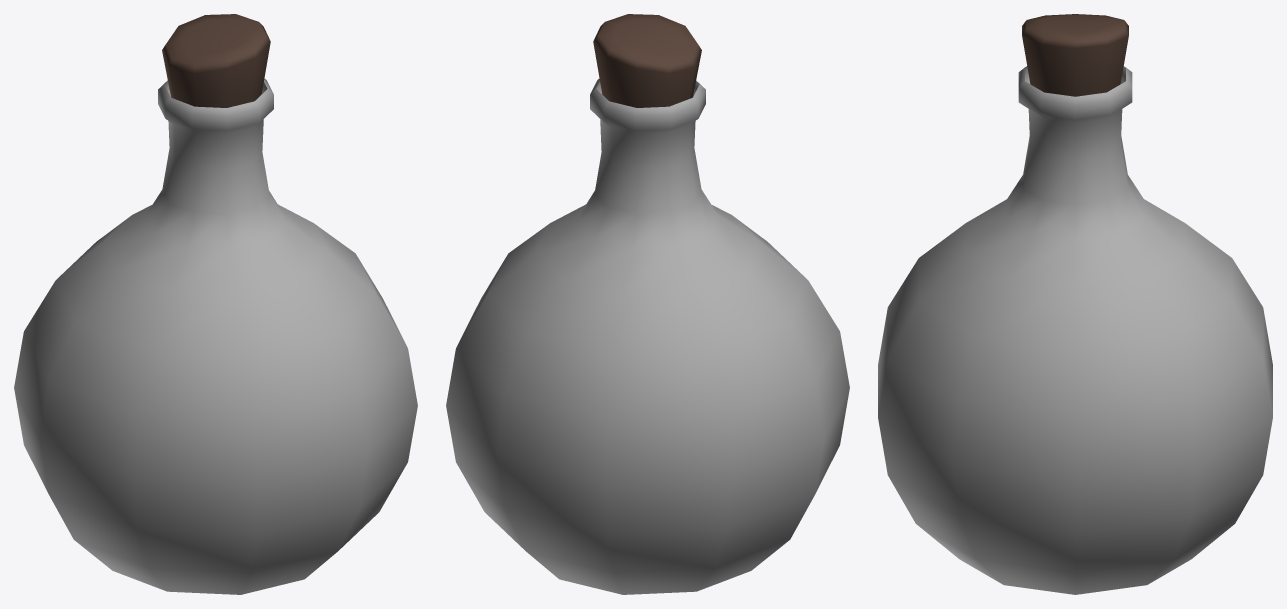
The model's file is potion01.fbx.
3 views of the same model, side by side, from view 1: azimuth 30°, elevation 25°; view 2: azimuth 150°, elevation 25°; view 3: azimuth 270°, elevation 25° (orthographic). The views are drawn at different scales.
Visible parts, largest first — view 1: charismaPotion_Bottle, charismaPotion_Top; view 2: charismaPotion_Bottle, charismaPotion_Top; view 3: charismaPotion_Bottle, charismaPotion_Top.
Boxes of the visible parts, x1,y1,x2,y2 form: charismaPotion_Bottle: (14,78,417,594); charismaPotion_Top: (162,14,270,107); charismaPotion_Bottle: (446,78,849,594); charismaPotion_Top: (593,14,701,107); charismaPotion_Bottle: (878,66,1272,594); charismaPotion_Top: (1022,14,1128,96).
Bounding box in the file's own units: 42.53 × 60.25 × 40.44.
